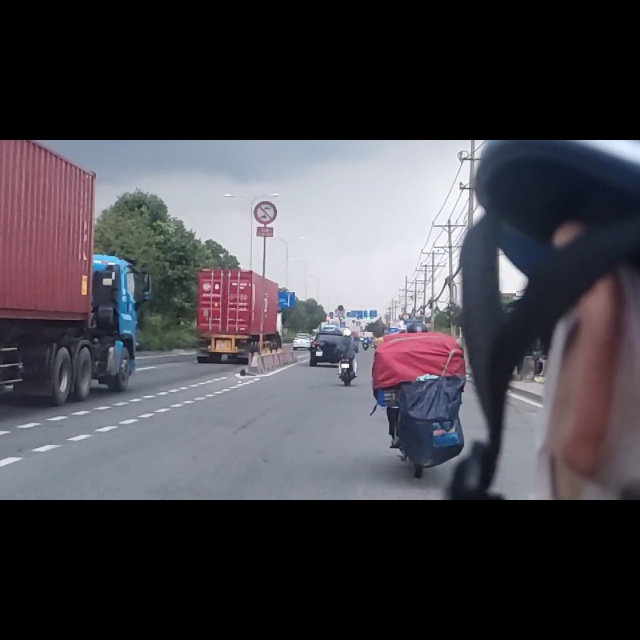bien_hieu_lenh: (254, 109, 278, 151)
